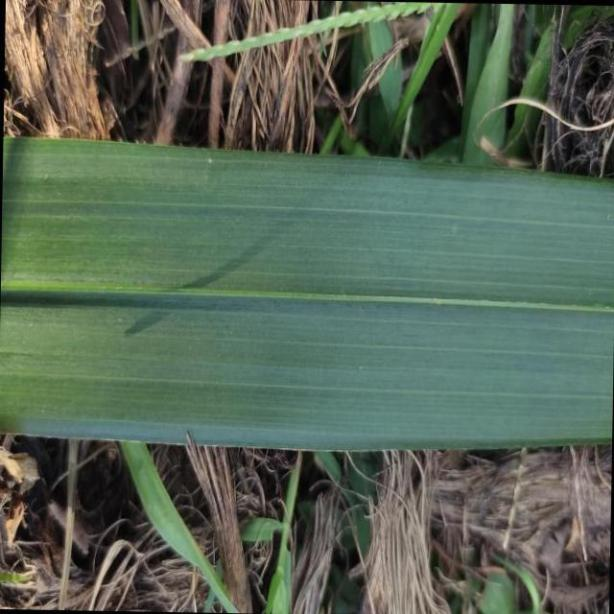Healthy: (1, 129, 614, 446)
